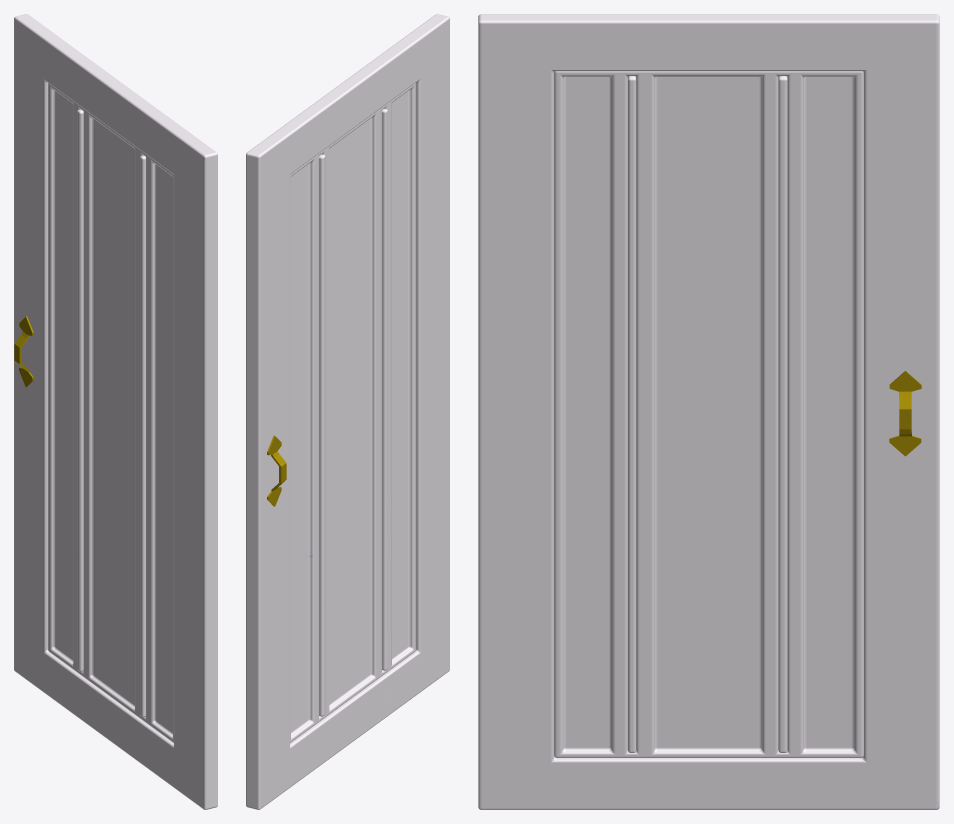
The model's file is SlidingDoor.fbx.
3 renders of one model, left to right at view 1: azimuth 30°, elevation 25°; view 2: azimuth 150°, elevation 25°; view 3: azimuth 270°, elevation 25°, orthographic. The views are drawn at different scales.
Visible parts, largest first — view 1: SlidingDoor; view 2: SlidingDoor; view 3: SlidingDoor.
Part boxes in pixels (x1,y1,x2,y2): SlidingDoor: (14,14,217,809); SlidingDoor: (246,14,449,809); SlidingDoor: (478,14,939,809).
Size of the model in its own units: 11.13 by 200 by 106.
2 materials, 2 textured.
